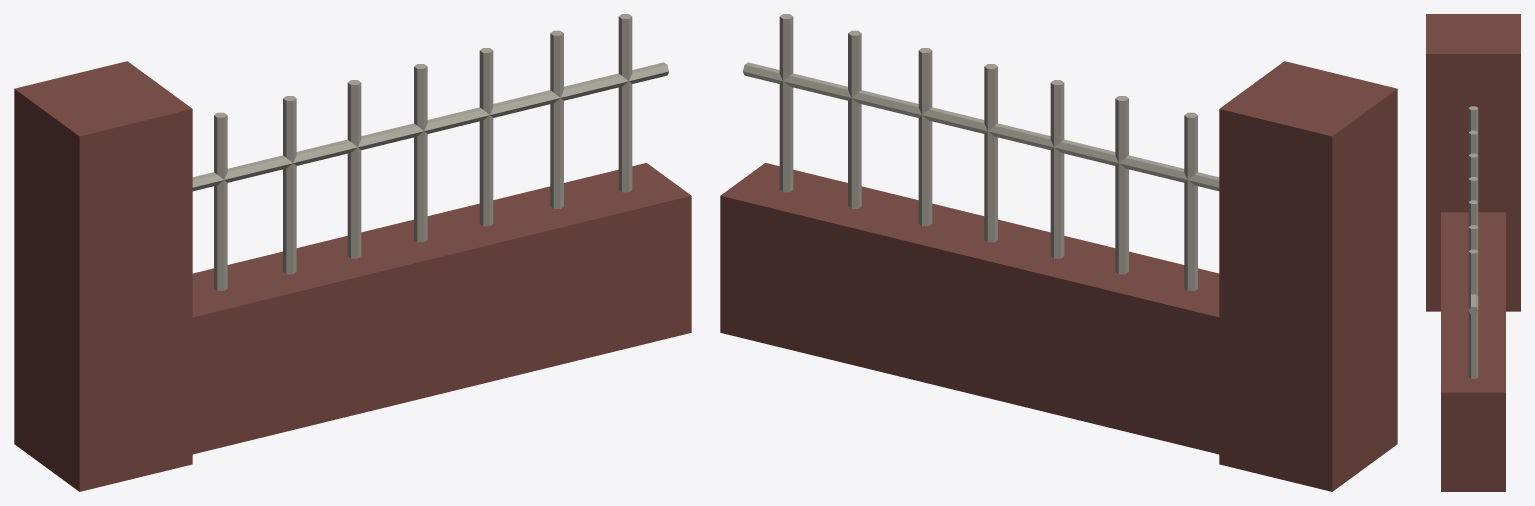
File: BrickFence.fbx
3 views of the same model, side by side, from view 1: azimuth 30°, elevation 25°; view 2: azimuth 150°, elevation 25°; view 3: azimuth 270°, elevation 25° (orthographic). The views are drawn at different scales.
Visible parts, largest first — view 1: Cube.001, Cylinder.007; view 2: Cube.001, Cylinder.007; view 3: Cube.001, Cylinder.007.
Part boxes in pixels (x1,y1,x2,y2): Cube.001: (14,61,691,491); Cylinder.007: (192,14,668,290); Cube.001: (720,61,1397,491); Cylinder.007: (743,14,1219,290); Cube.001: (1426,14,1520,491); Cylinder.007: (1468,106,1478,378).
Size of the model in its own units: 490 by 268 by 89.1.
